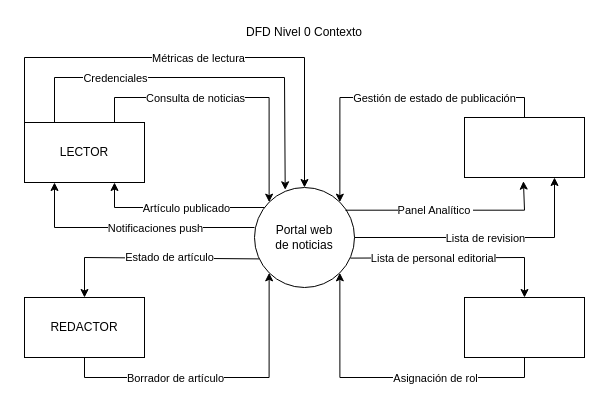
This 602x403 diagram has some shape labels left out. The shapes that lost their labels are listed below. From the top down, each one's centre as x and y in pixels, then its label:
the point at 524,147: EDITOR
the point at 524,327: ADMINISTRADOR
